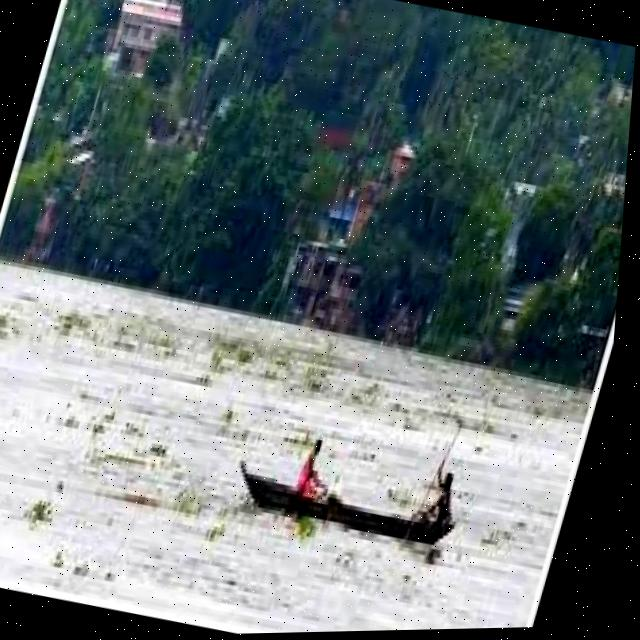civilian: (272, 425, 362, 525), (397, 448, 475, 550)
